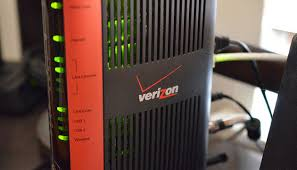Verizon Router: (34, 1, 218, 170)
